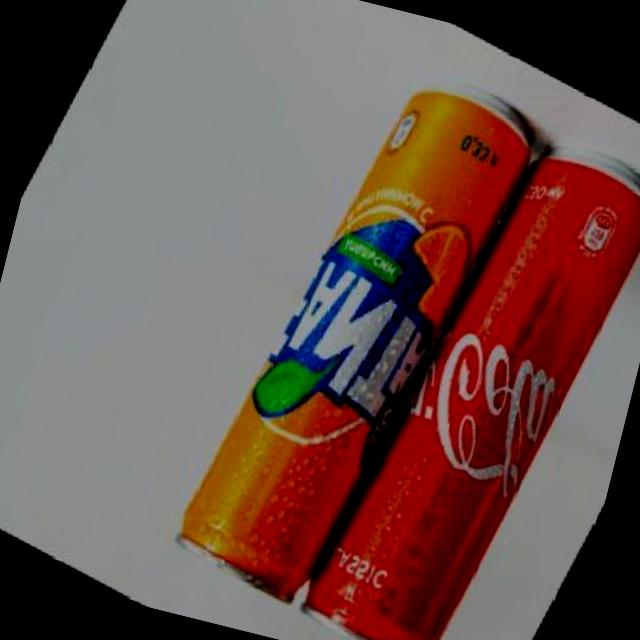can: (163, 38, 548, 638), (287, 100, 640, 640)
